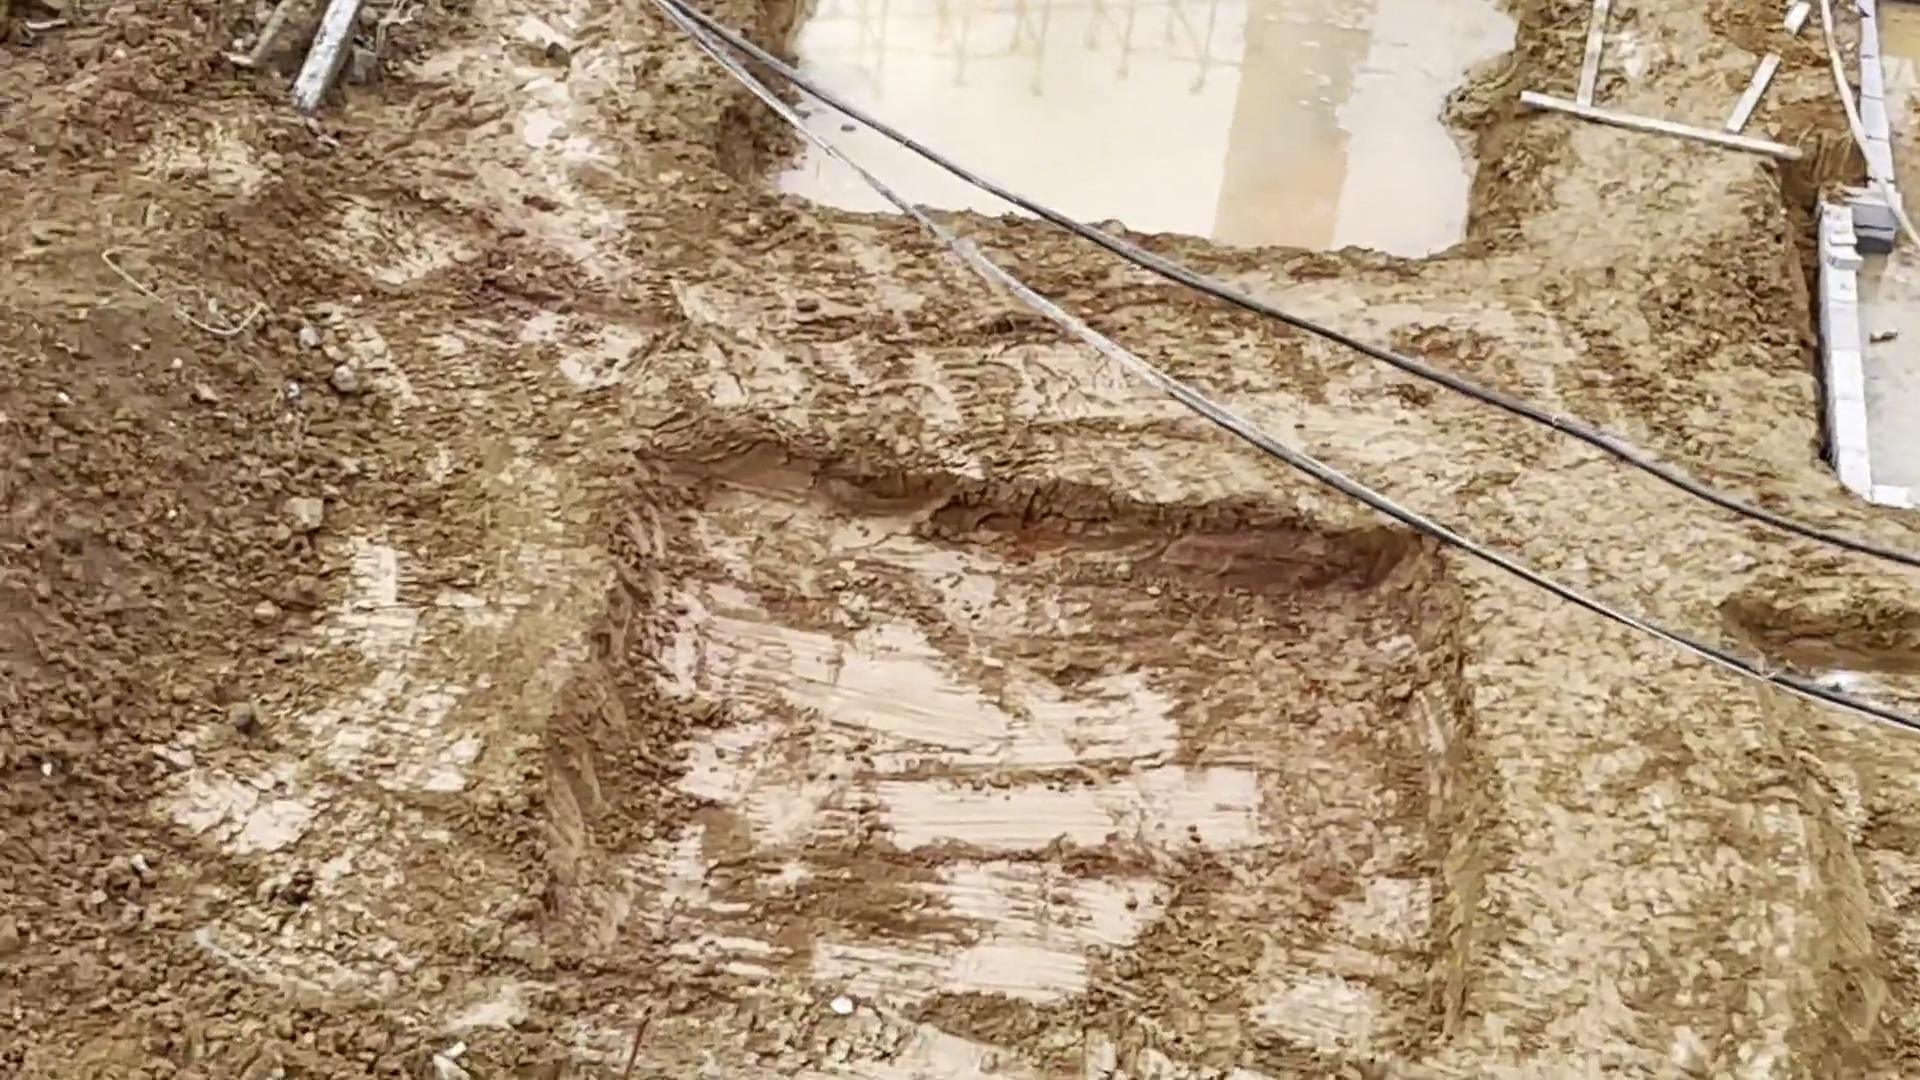brick: (1818, 206, 1870, 487), (1858, 7, 1899, 236)
